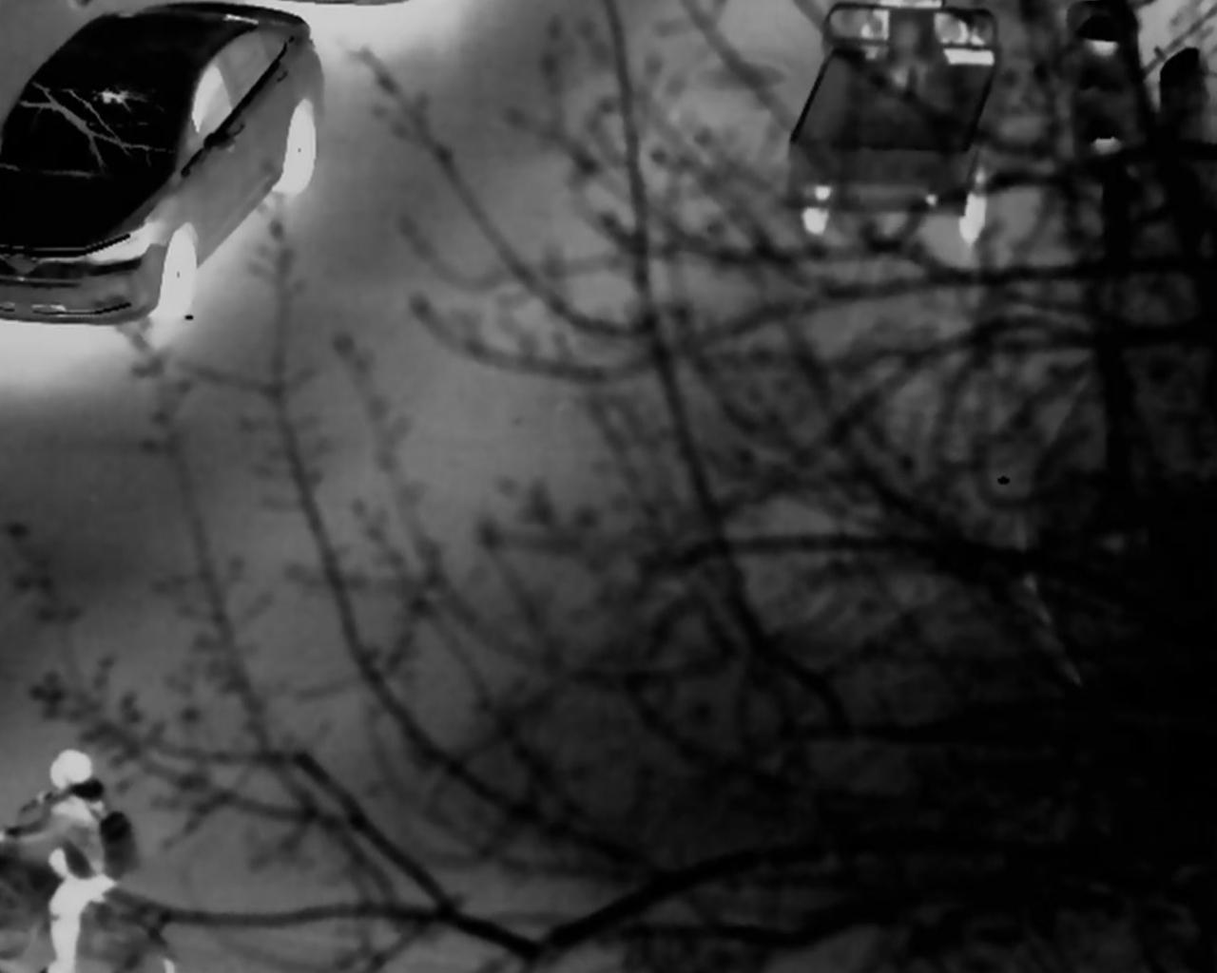person: (21, 747, 113, 967)
